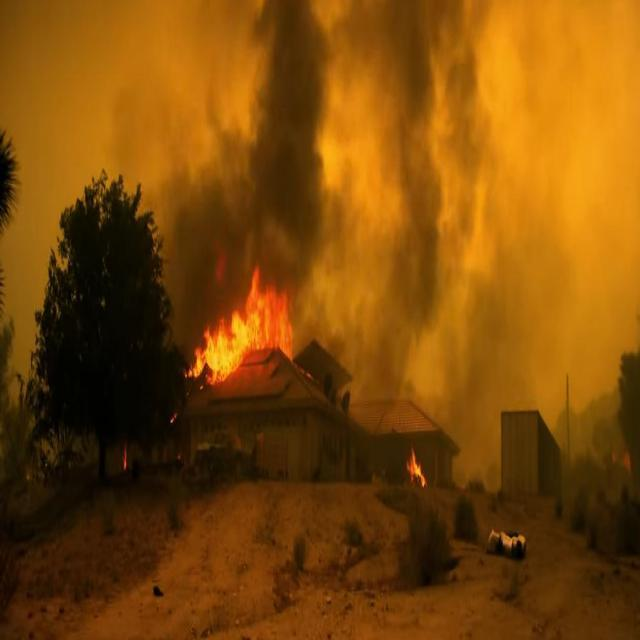Fire: (182, 264, 296, 394), (406, 442, 428, 490)
